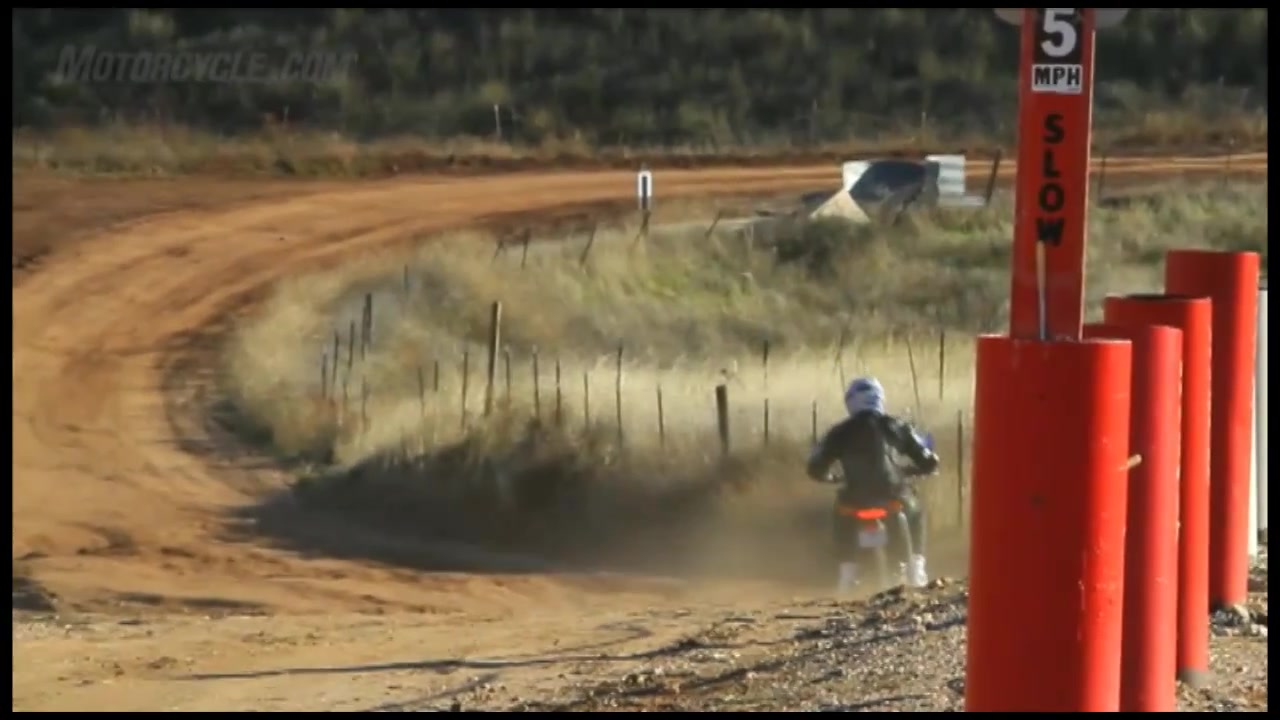motorbike: (810, 440, 936, 604)
